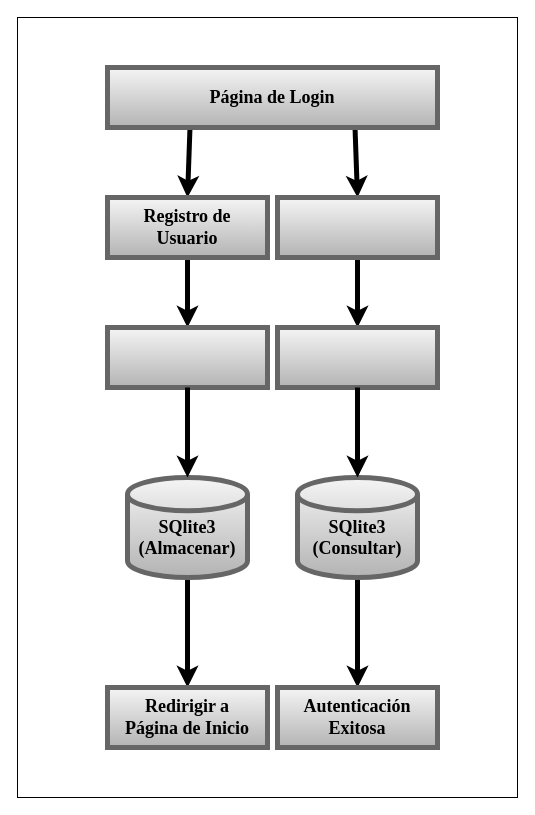
This 535x815 diagram has some shape labels left out. The box of each missing label's shape, as (x1, y1, x2, y2) in pixels:
Crear Usuario: (104, 324, 270, 390)
Iniciar Sesión: (274, 194, 440, 260)
Validar Credenciales: (274, 324, 440, 390)
